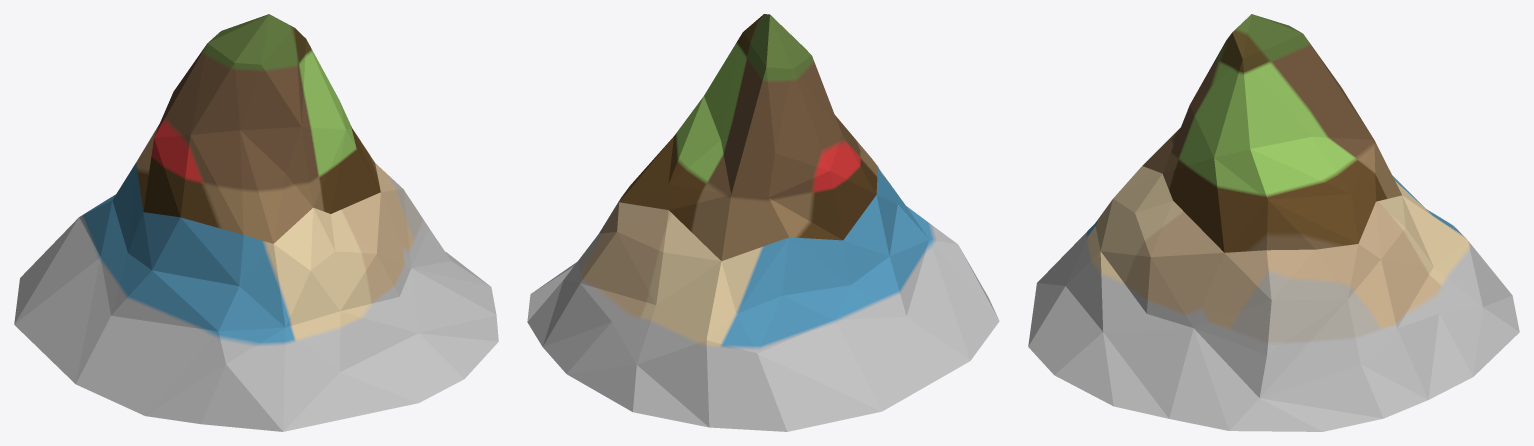
Rendered from Mountain_03.fbx.
3 views of the same model, side by side, from view 1: azimuth 30°, elevation 25°; view 2: azimuth 150°, elevation 25°; view 3: azimuth 270°, elevation 25° (orthographic). The views are drawn at different scales.
Visible parts, largest first — view 1: Mountain_03; view 2: Mountain_03; view 3: Mountain_03.
Boxes of the visible parts, <box> form: Mountain_03: <box>14,14,498,431</box>; Mountain_03: <box>527,14,999,431</box>; Mountain_03: <box>1028,14,1519,431</box>.
Size of the model in its own units: 73.64 by 53.79 by 76.17.
